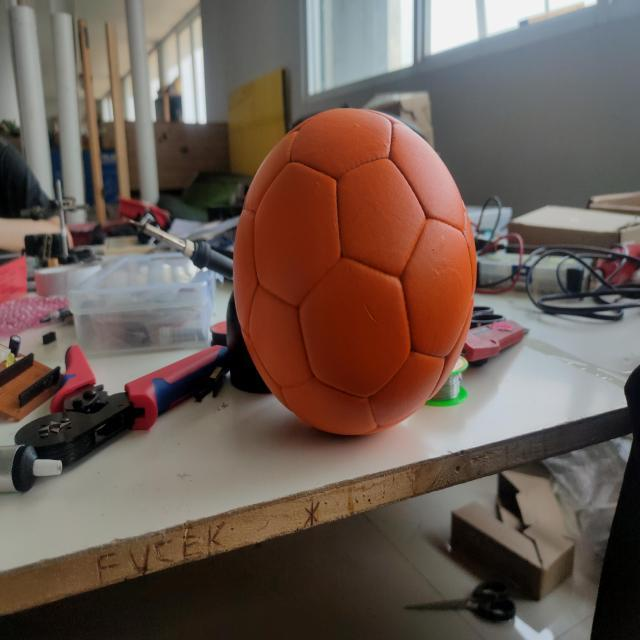bola: (209, 65, 494, 477)
